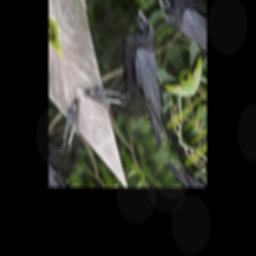Crow: (77, 7, 199, 175)
